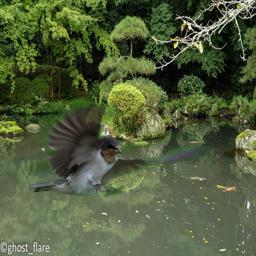Swallow: (29, 100, 212, 197)
